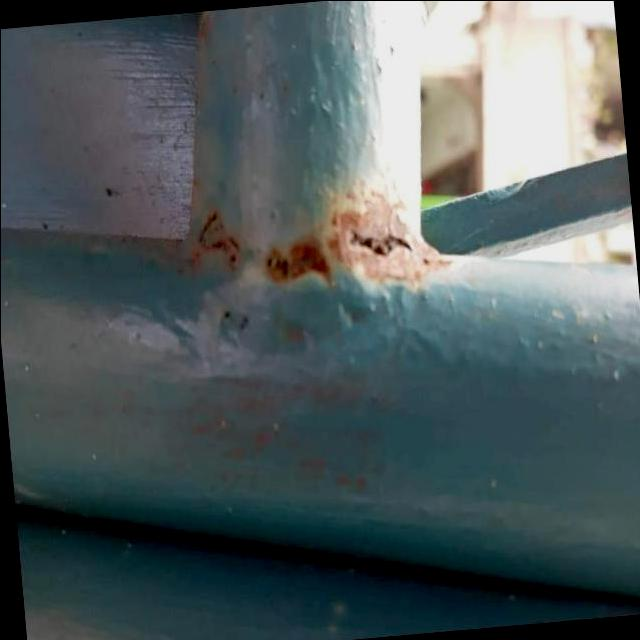defect: (340, 217, 415, 259)
